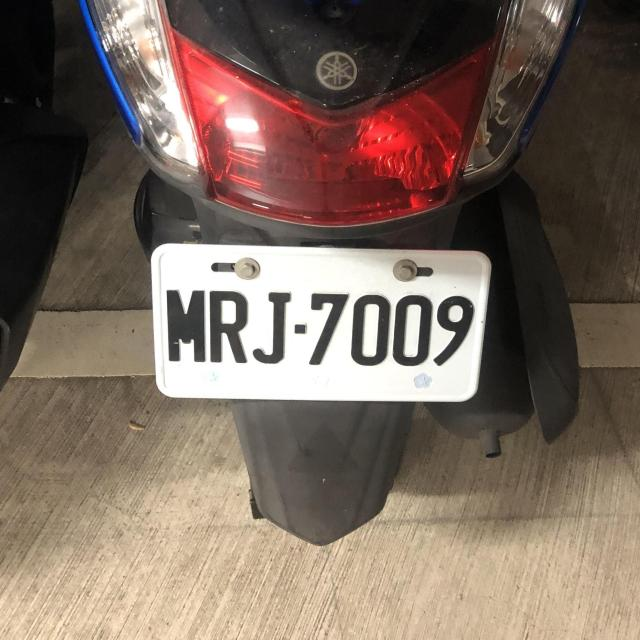W: (150, 231, 494, 407)
